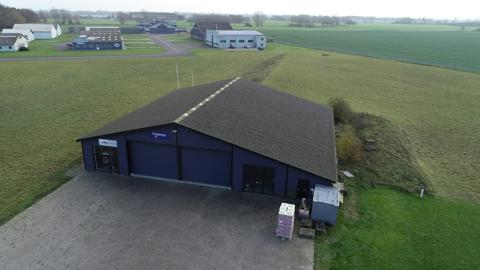RockwoolPallet: (275, 201, 296, 240)
